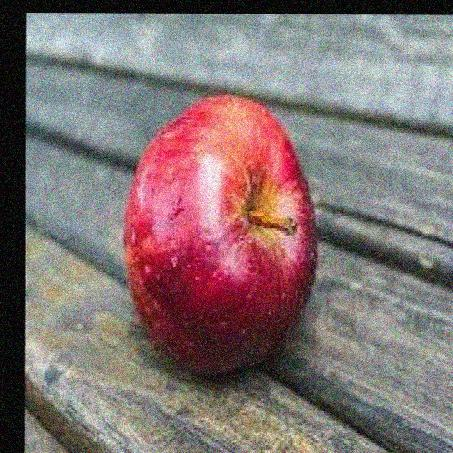red apple: (121, 88, 317, 378)
